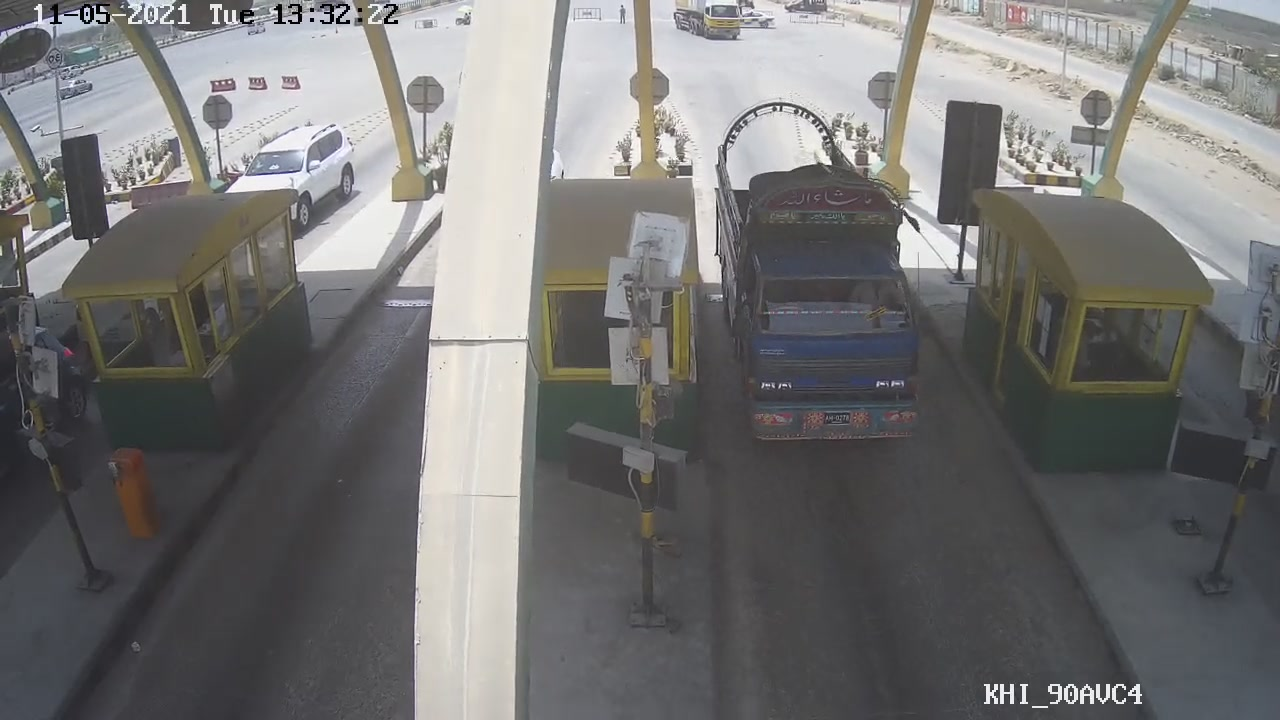F5: (709, 98, 929, 452)
